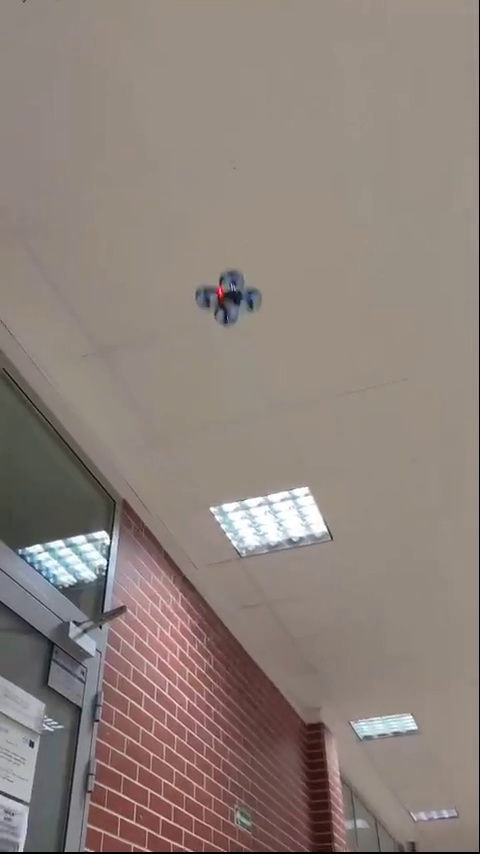drone: (192, 270, 259, 321)
